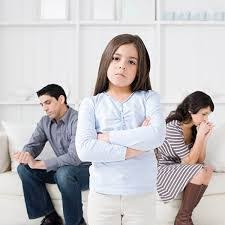person: (87, 34, 160, 126), (30, 81, 80, 143), (168, 84, 211, 150)
